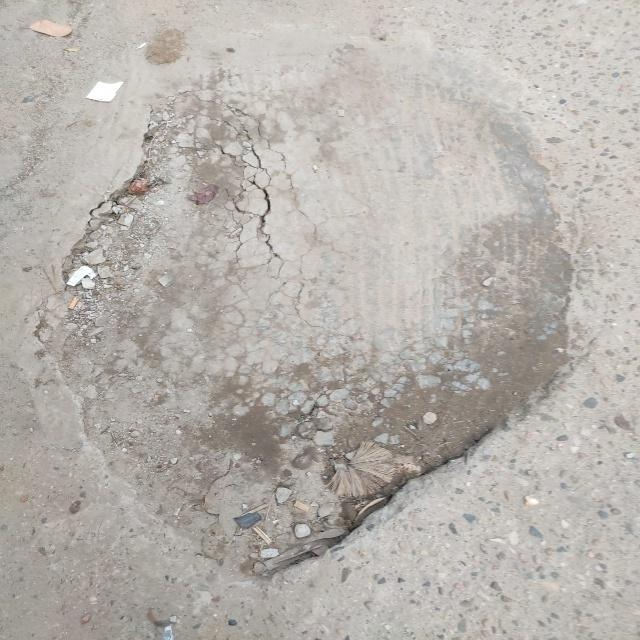Pothole: (128, 126, 482, 506)
